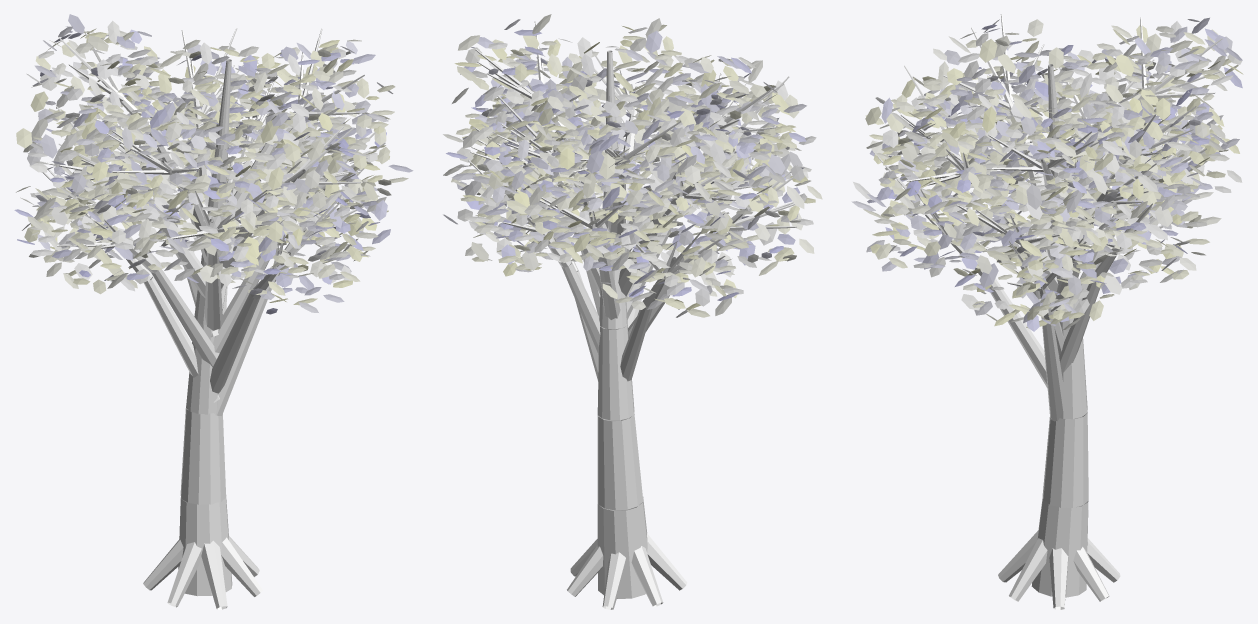
File: SM_HQ_Tree_4.fbx
3 renders of one model, left to right at view 1: azimuth 30°, elevation 25°; view 2: azimuth 150°, elevation 25°; view 3: azimuth 270°, elevation 25°, orthographic.
Visible parts, largest first — view 1: SM_HQ_Tree_4.001; view 2: SM_HQ_Tree_4.001; view 3: SM_HQ_Tree_4.001.
Part boxes in pixels (x1,y1,x2,y2): SM_HQ_Tree_4.001: (14, 14, 413, 609); SM_HQ_Tree_4.001: (443, 14, 822, 609); SM_HQ_Tree_4.001: (851, 14, 1243, 609).
Bounding box in the file's own units: 494 × 470 × 713.
